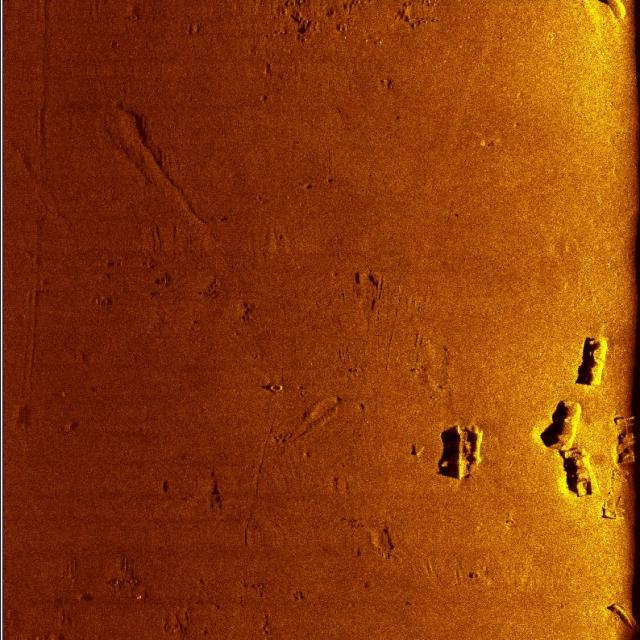other: (425, 398, 501, 492), (569, 328, 614, 389), (546, 396, 588, 454), (562, 445, 603, 499)
